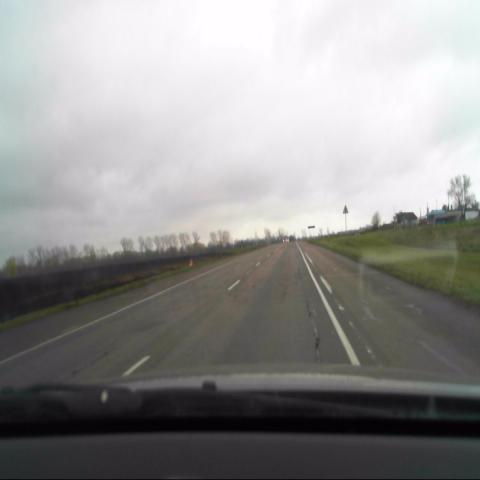2_3: (342, 203, 349, 214)
